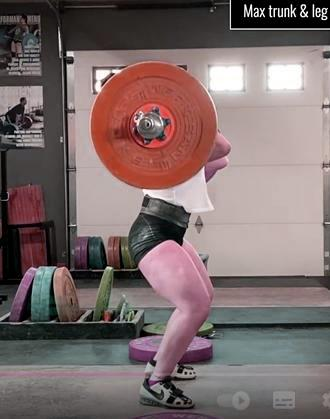Barbell: (133, 114, 157, 136)
